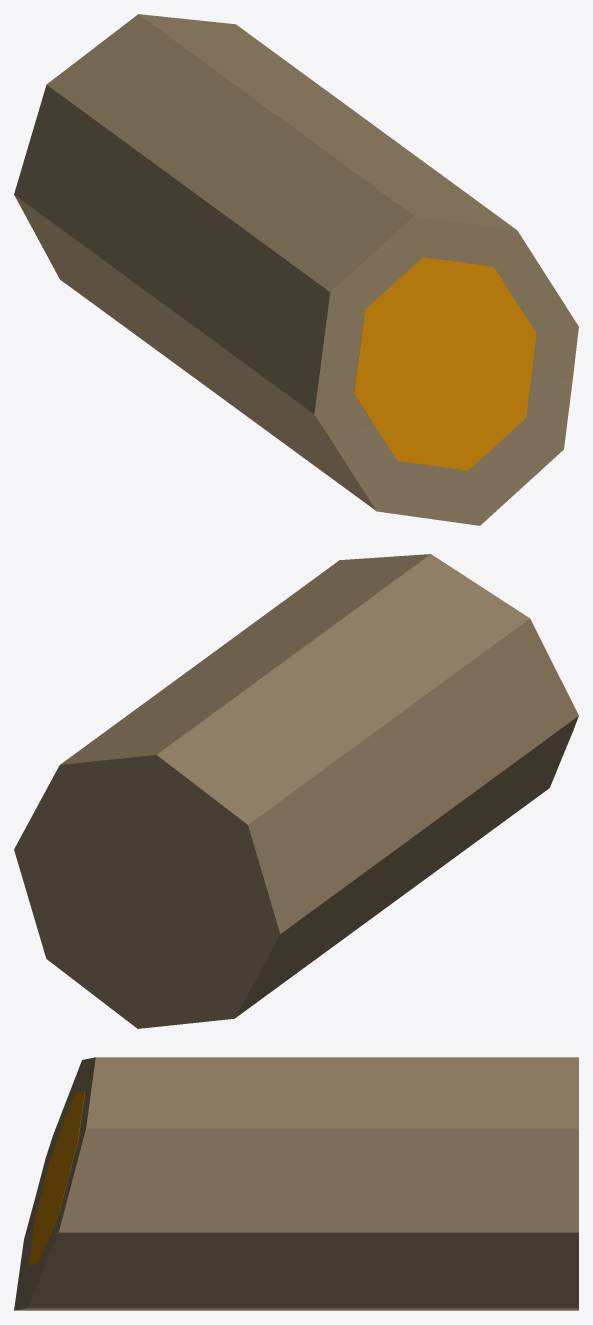
Rendered from tree trunk.fbx.
The picture shows the model from 3 angles, top to bottom: view 1: azimuth 30°, elevation 25°; view 2: azimuth 150°, elevation 25°; view 3: azimuth 270°, elevation 25°; orthographic projection. The views are drawn at different scales.
Parts seen in each view (by area): view 1: trunk, tree trunk; view 2: trunk; view 3: trunk, tree trunk.
Part boxes in pixels (x1,y1,x2,y2): trunk: (14,14,578,525); tree trunk: (354,257,536,470); trunk: (14,554,578,1028); trunk: (14,1057,578,1310); tree trunk: (28,1091,84,1265).
Size of the model in its own units: 0.4468 by 0.4468 by 0.9323.
